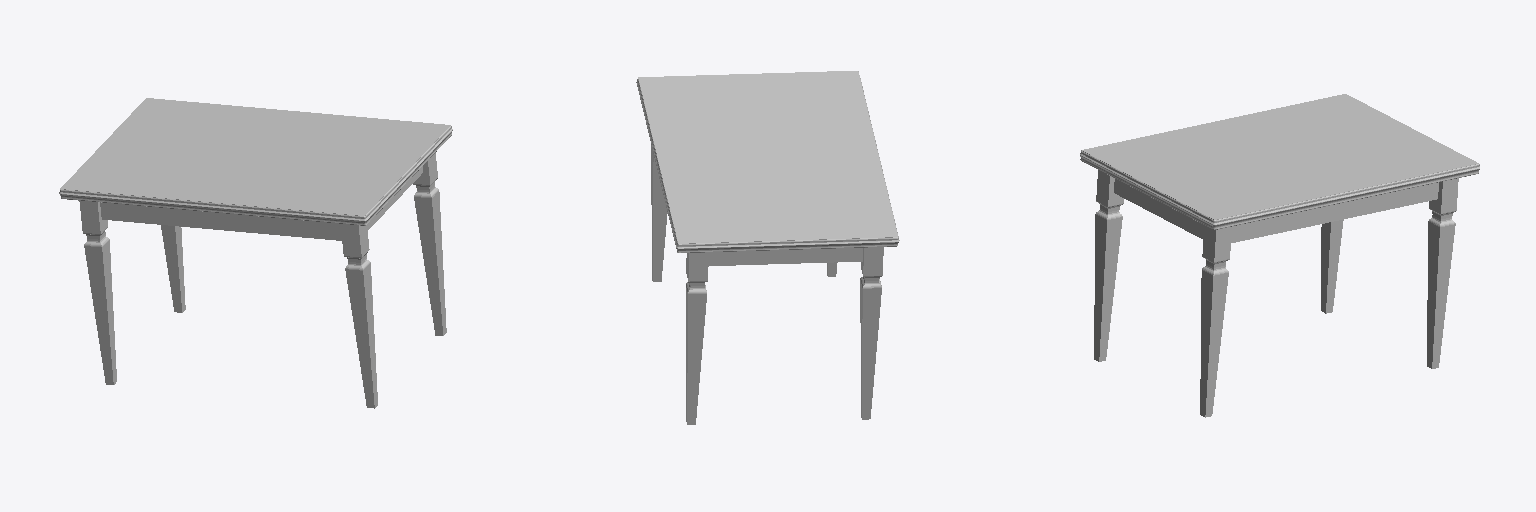
Rendered from table.obj.
3 views of the same model, side by side, from view 1: azimuth 30°, elevation 25°; view 2: azimuth 150°, elevation 25°; view 3: azimuth 270°, elevation 25° (orthographic).
Parts seen in each view (by area): view 1: Rectangle1.001, Rectangle4.001, Loft01.001, Line01.001, Line04.001, Line02.001, Line03.001; view 2: Rectangle1.001, Line03.001, Line04.001, Loft01.001, Rectangle2.001, Line02.001; view 3: Rectangle1.001, Line02.001, Loft01.001, Line03.001, Line01.001, Rectangle0.001, Line04.001, Rectangle3.001.
Part boxes in pixels (left/top/right/bottom): Rectangle1.001: left=60, top=98, right=450, bottom=225; Rectangle4.001: left=100, top=203, right=341, bottom=240; Loft01.001: left=59, top=126, right=452, bottom=225; Line01.001: left=340, top=224, right=377, bottom=408; Line04.001: left=79, top=201, right=116, bottom=384; Line02.001: left=413, top=153, right=446, bottom=335; Line03.001: left=161, top=225, right=185, bottom=312; Rectangle1.001: left=638, top=71, right=897, bottom=252; Line03.001: left=686, top=252, right=708, bottom=424; Line04.001: left=860, top=247, right=883, bottom=419; Loft01.001: left=636, top=71, right=899, bottom=252; Rectangle2.001: left=709, top=248, right=862, bottom=265; Line02.001: left=651, top=145, right=667, bottom=281; Rectangle1.001: left=1082, top=94, right=1478, bottom=229; Line02.001: left=1200, top=225, right=1231, bottom=417; Loft01.001: left=1080, top=150, right=1479, bottom=229; Line03.001: left=1427, top=178, right=1458, bottom=368; Line01.001: left=1094, top=170, right=1123, bottom=361; Rectangle0.001: left=1231, top=182, right=1438, bottom=242; Line04.001: left=1321, top=219, right=1343, bottom=313; Rectangle3.001: left=1114, top=179, right=1203, bottom=238.
Bounding box in the file's own units: 15.54 × 10.43 × 16.45.